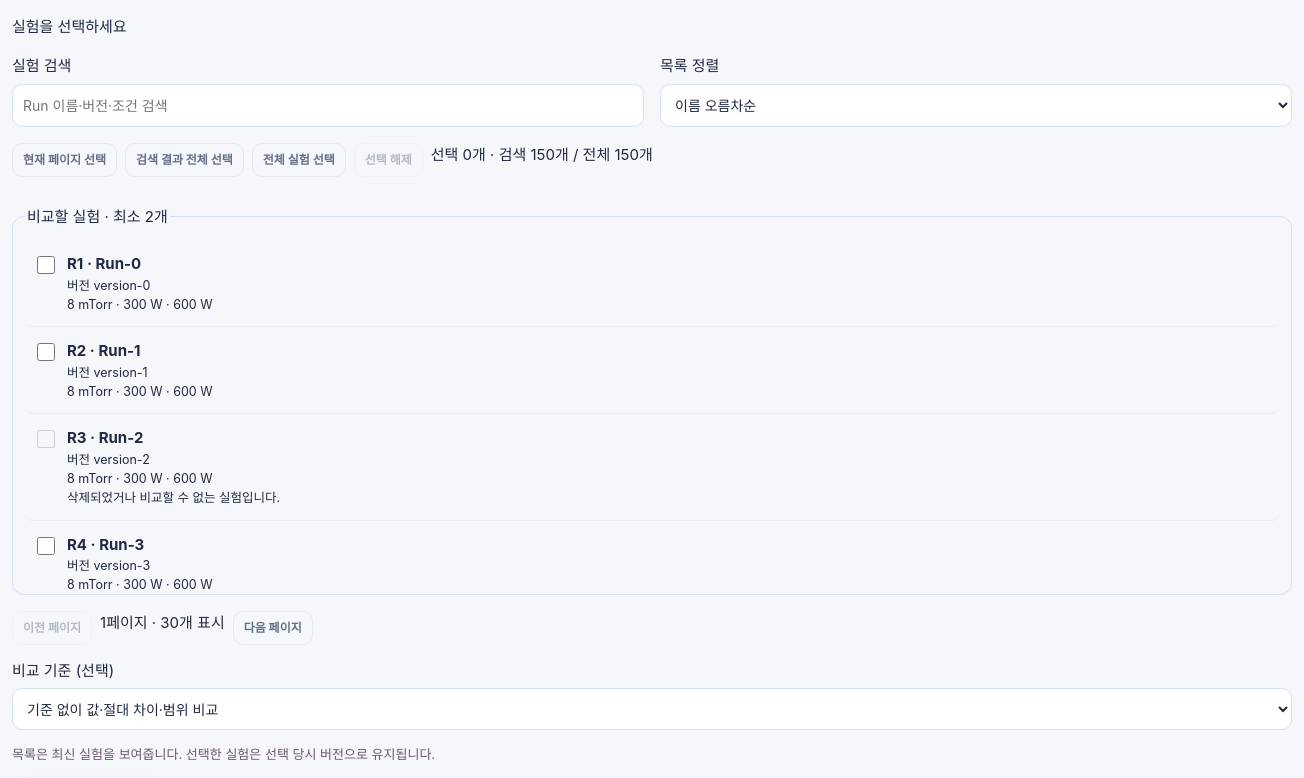
Test: a late response from an older search cannot replace the newest page
Expected: the checkbox labelled "R1 · Run-0 버전 version-0 8 mTorr · 300 W · 600 W" is shown, [37, 256, 55, 274]
Type "Run-1" into the search field at (328, 105), box [12, 84, 644, 127]
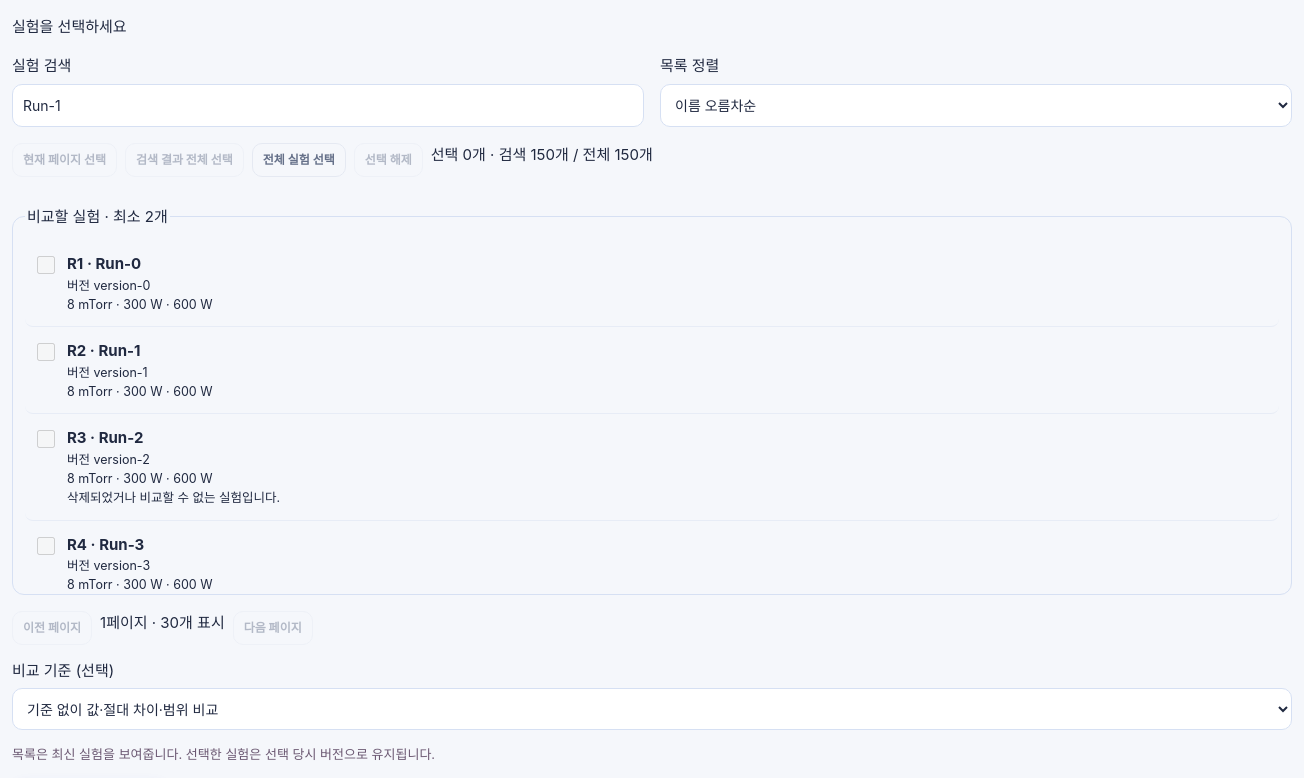
Press Enter in the search field, box [12, 84, 644, 127]
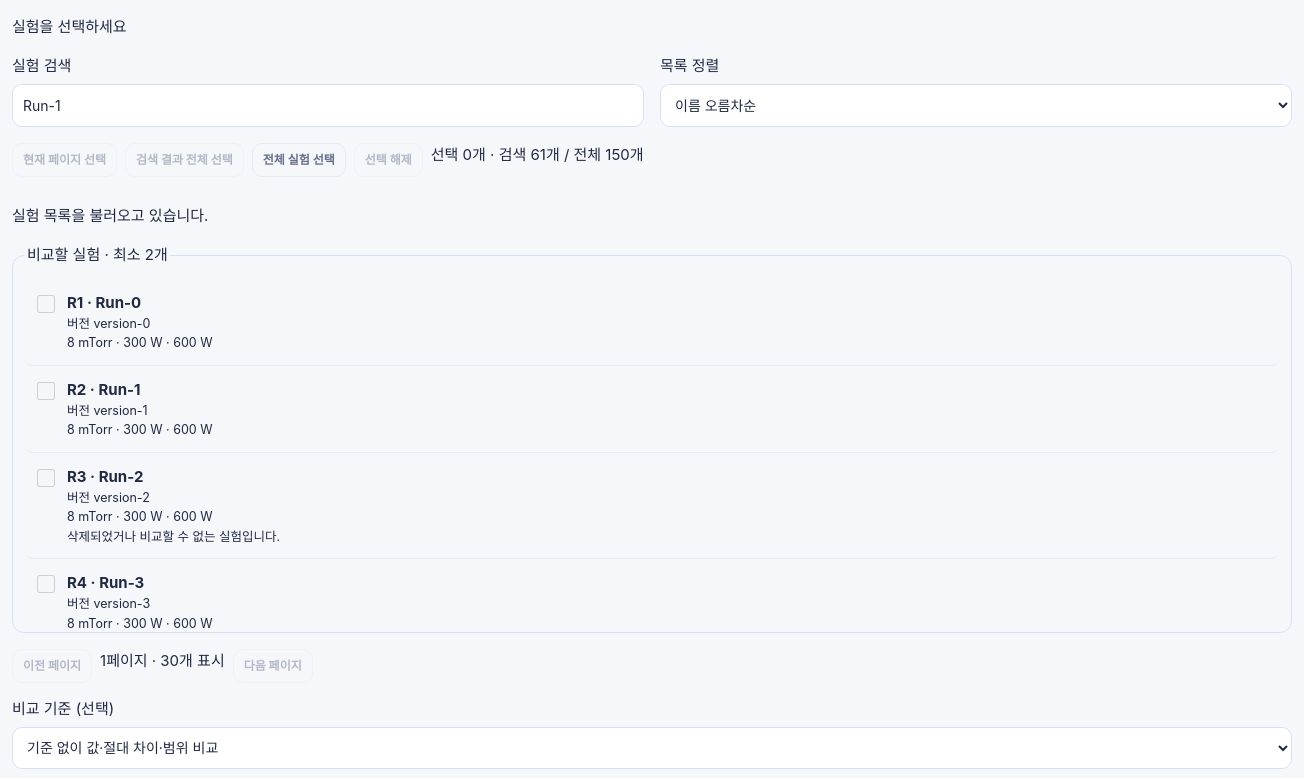
Replace the text in the search field with "Run-149" at (328, 105), box [12, 84, 644, 127]
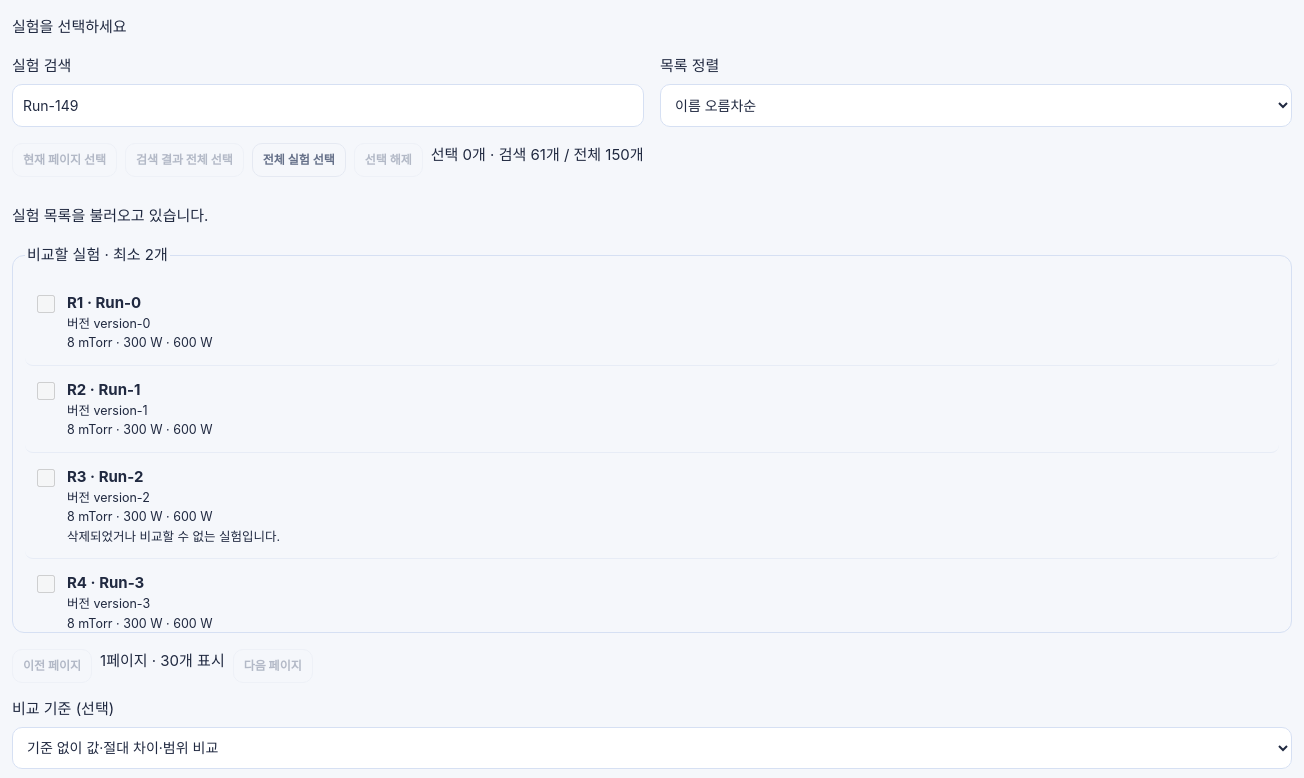
Press Enter in the search field, box [12, 84, 644, 127]
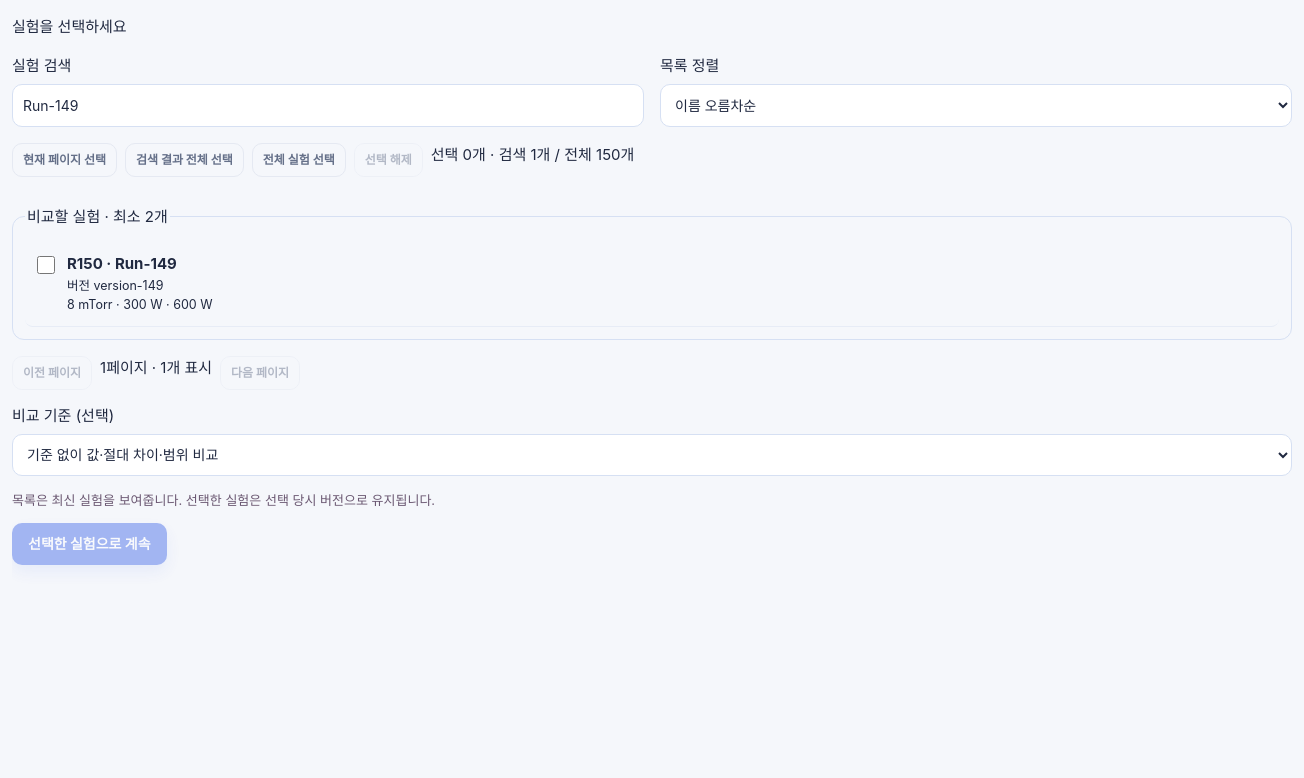
Expected: the number of checkboxes is 1, [37, 256, 55, 274]
